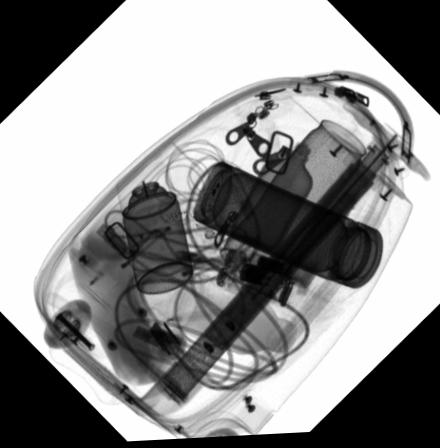Sprayer: (116, 162, 193, 296)
